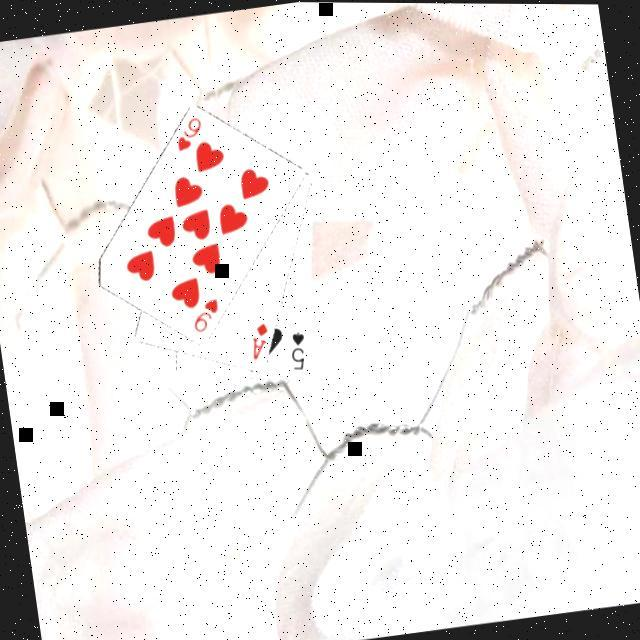5S: (284, 326, 312, 374)
9H: (168, 112, 208, 154), (186, 294, 224, 336)
AD: (244, 318, 274, 362)
